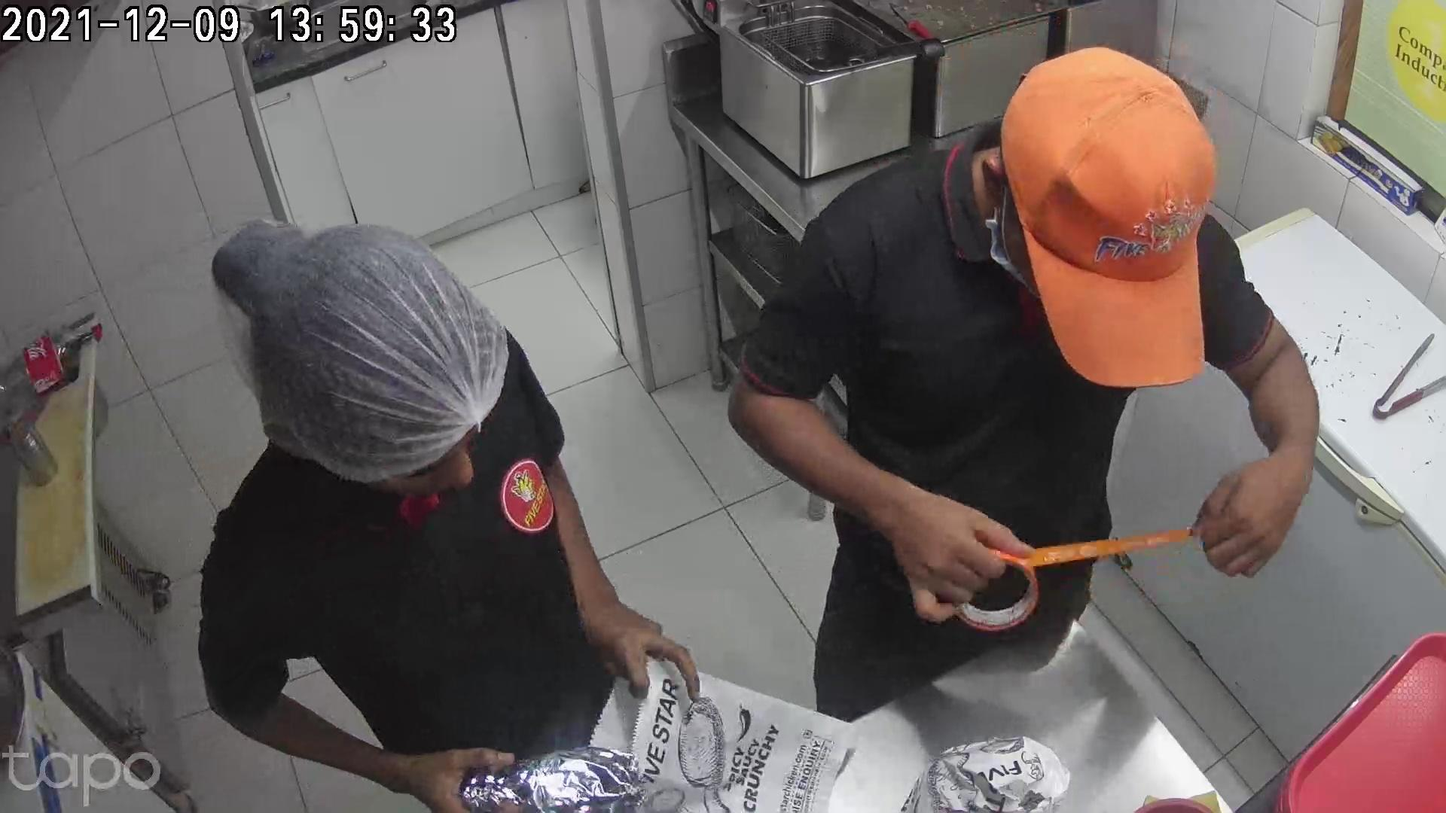no_gloves: (875, 479, 1004, 619)
